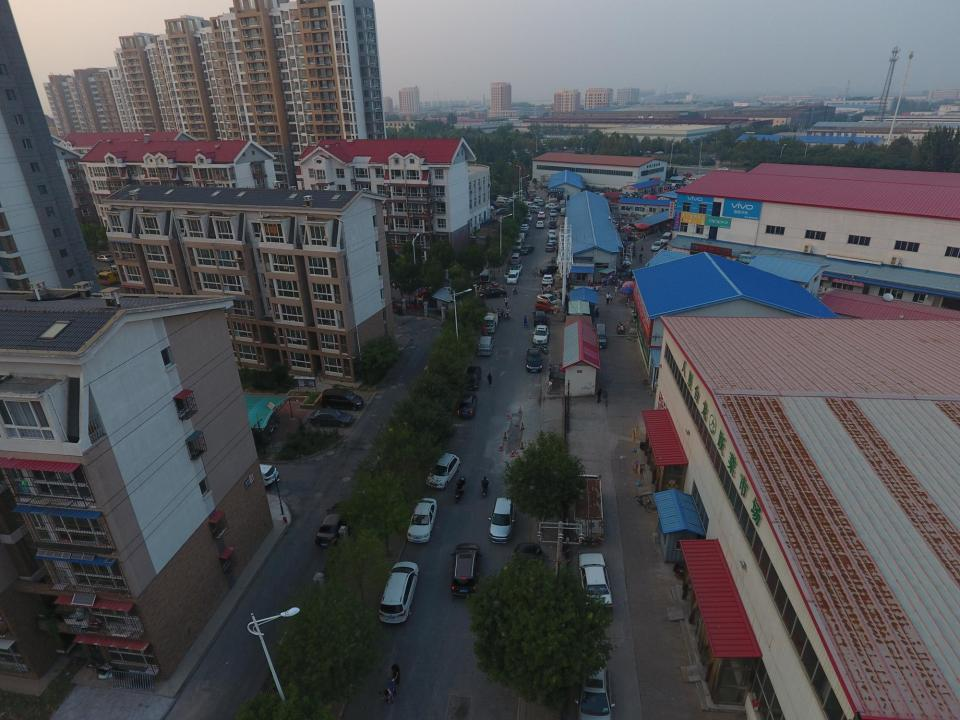car: (575, 650, 616, 720), (379, 562, 419, 624), (578, 553, 614, 611), (315, 502, 352, 550), (450, 544, 481, 598), (511, 542, 543, 592), (406, 497, 436, 544), (426, 452, 461, 490), (488, 498, 515, 543), (230, 464, 279, 488), (310, 408, 354, 429), (461, 366, 482, 391), (458, 392, 477, 417), (526, 348, 543, 373), (535, 299, 558, 314), (532, 325, 549, 345), (478, 288, 507, 299), (536, 294, 560, 305), (532, 310, 548, 326), (415, 289, 439, 299), (503, 271, 519, 284), (540, 265, 558, 275), (521, 245, 534, 255), (542, 274, 553, 285), (510, 264, 522, 274), (651, 241, 664, 250), (544, 243, 554, 252), (508, 197, 520, 204), (545, 202, 559, 208), (548, 220, 557, 229), (520, 224, 530, 232), (554, 206, 567, 212), (537, 211, 545, 219), (536, 220, 544, 228), (522, 218, 530, 226), (548, 230, 556, 238), (484, 205, 494, 211), (524, 214, 532, 221), (550, 210, 556, 218), (534, 197, 543, 202), (538, 200, 545, 206), (528, 195, 534, 201)
truck: (571, 472, 604, 548), (482, 313, 497, 332)
van: (321, 387, 365, 410), (594, 323, 608, 348), (478, 336, 494, 356), (479, 270, 494, 283), (520, 200, 536, 209), (660, 232, 672, 244), (510, 252, 521, 264), (513, 238, 523, 251), (547, 233, 556, 246), (495, 197, 511, 204), (493, 200, 508, 207), (527, 206, 541, 213), (518, 232, 526, 243), (635, 212, 646, 220), (485, 202, 499, 208), (513, 194, 526, 200), (515, 192, 528, 197), (560, 208, 568, 216), (645, 214, 655, 220), (560, 199, 566, 208), (530, 189, 536, 197)
